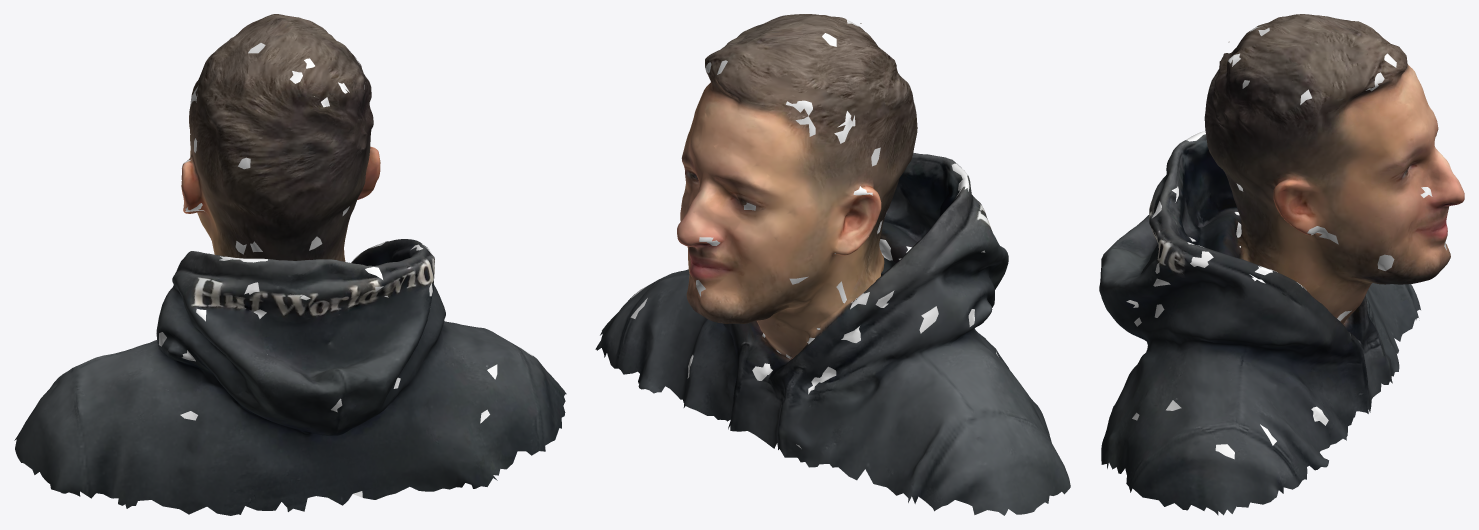
File: rishpa.glb
The picture shows the model from 3 angles, left to right: view 1: azimuth 30°, elevation 25°; view 2: azimuth 150°, elevation 25°; view 3: azimuth 270°, elevation 25°; orthographic projection. The views are drawn at different scales.
Parts seen in each view (by area): view 1: mesh_medpoly; view 2: mesh_medpoly; view 3: mesh_medpoly.
Boxes of the visible parts, <box> form: mesh_medpoly: <box>14,14,566,515</box>; mesh_medpoly: <box>595,14,1070,515</box>; mesh_medpoly: <box>1099,14,1464,515</box>.
Size of the model in its own units: 1.98 by 1.58 by 1.32.
13 materials, 12 textured.
